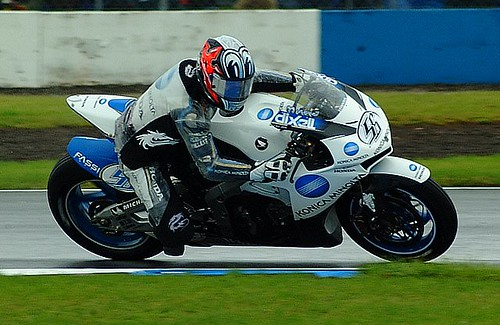helmet: (196, 30, 255, 113)
